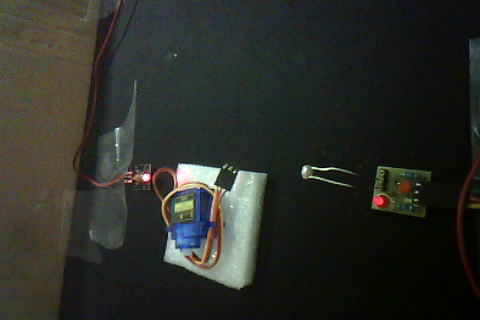motor: (145, 153, 260, 282)
